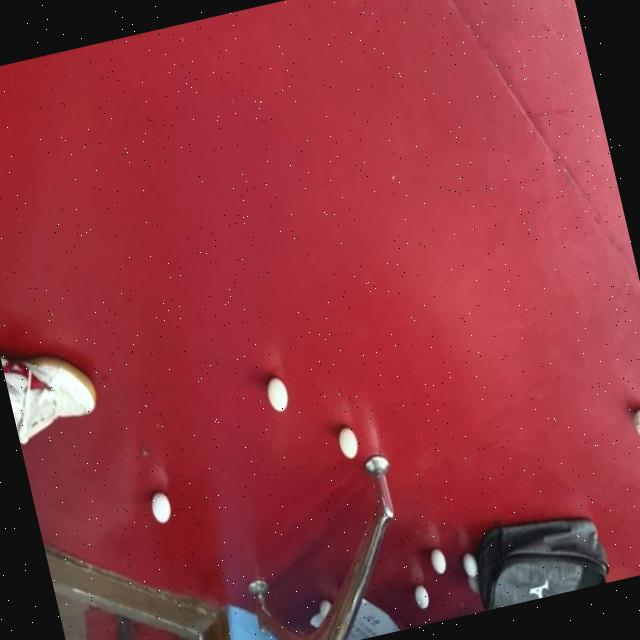ping-pong-ball: (262, 373, 292, 418), (334, 420, 363, 462), (146, 486, 176, 526), (411, 581, 433, 614), (428, 546, 450, 578), (461, 552, 482, 581), (628, 402, 640, 446)
